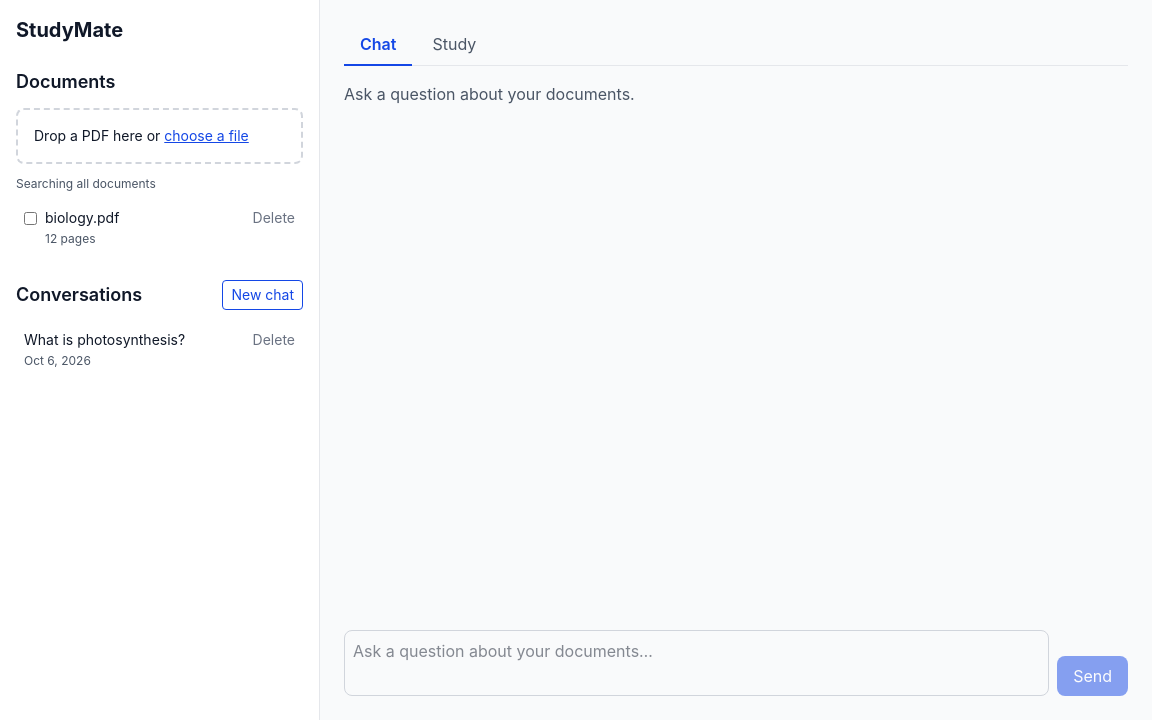
Test: App › explains a conversation that was deleted elsewhere and refreshes the list
What coordinates should you click on to do the following:
click the button "What is photosynthesis? Oct 6, 2026"
I would click on:
 (134, 350)
Its box is [24,330,245,370].
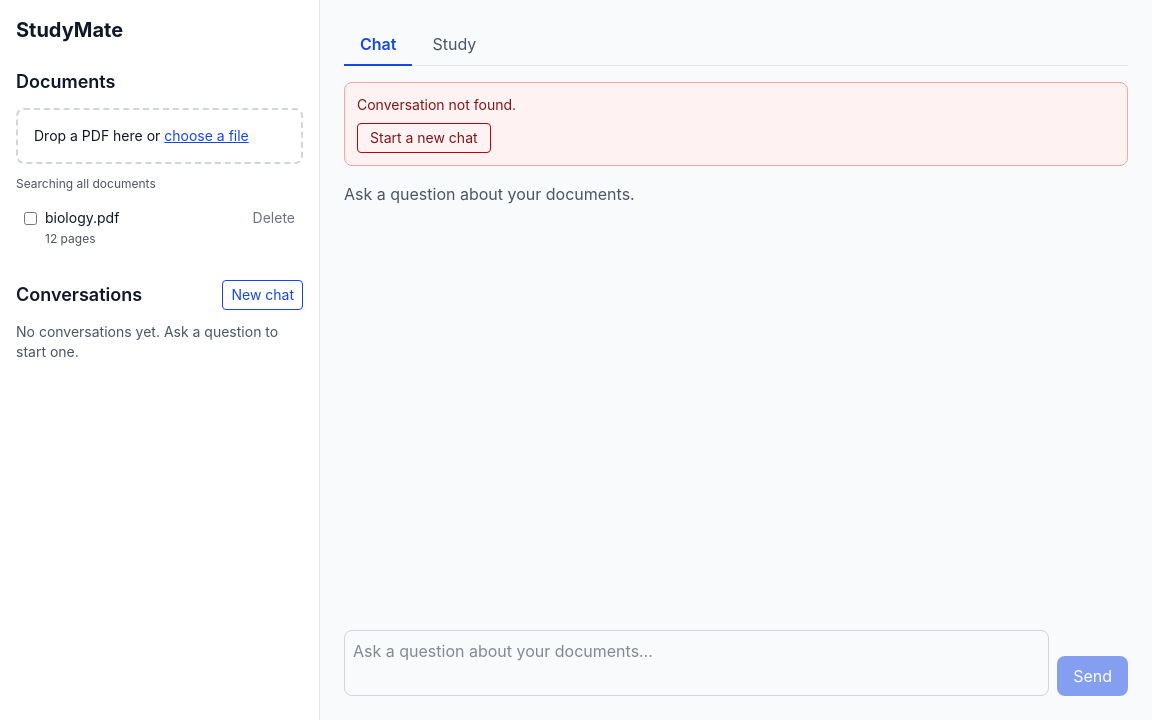
expect the message shows "Conversation not found.": met, box [357,96,516,113]
expect the button "Start a new chat" is shown: met, box [357,123,491,153]
expect the text "No conversations yet. Ask a question to start one." is shown: met, box [16,322,303,362]
